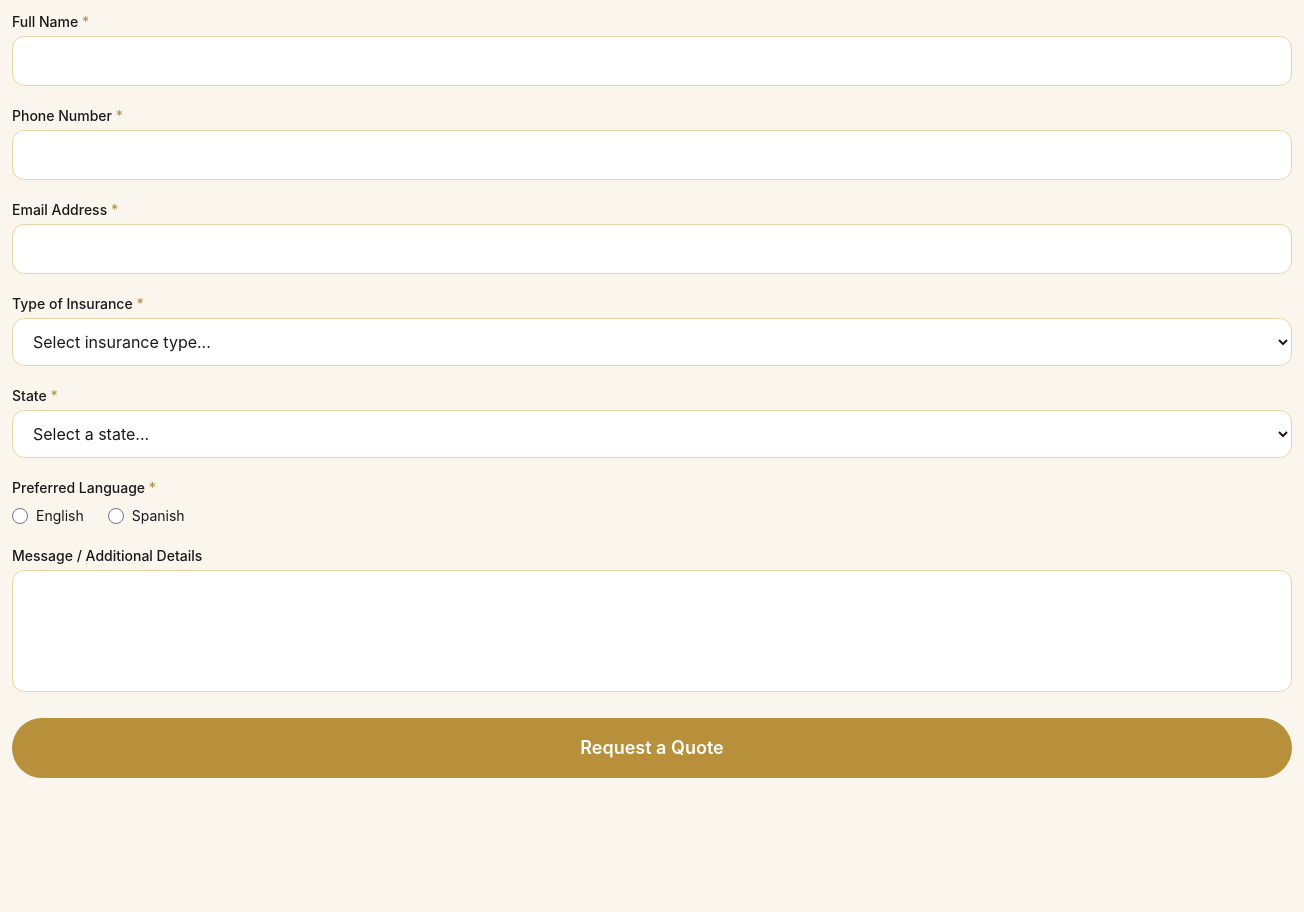
Test: QuoteForm › shows validation errors on empty submit
Click the button "Request a Quote" at (652, 748), box [12,718,1292,778]
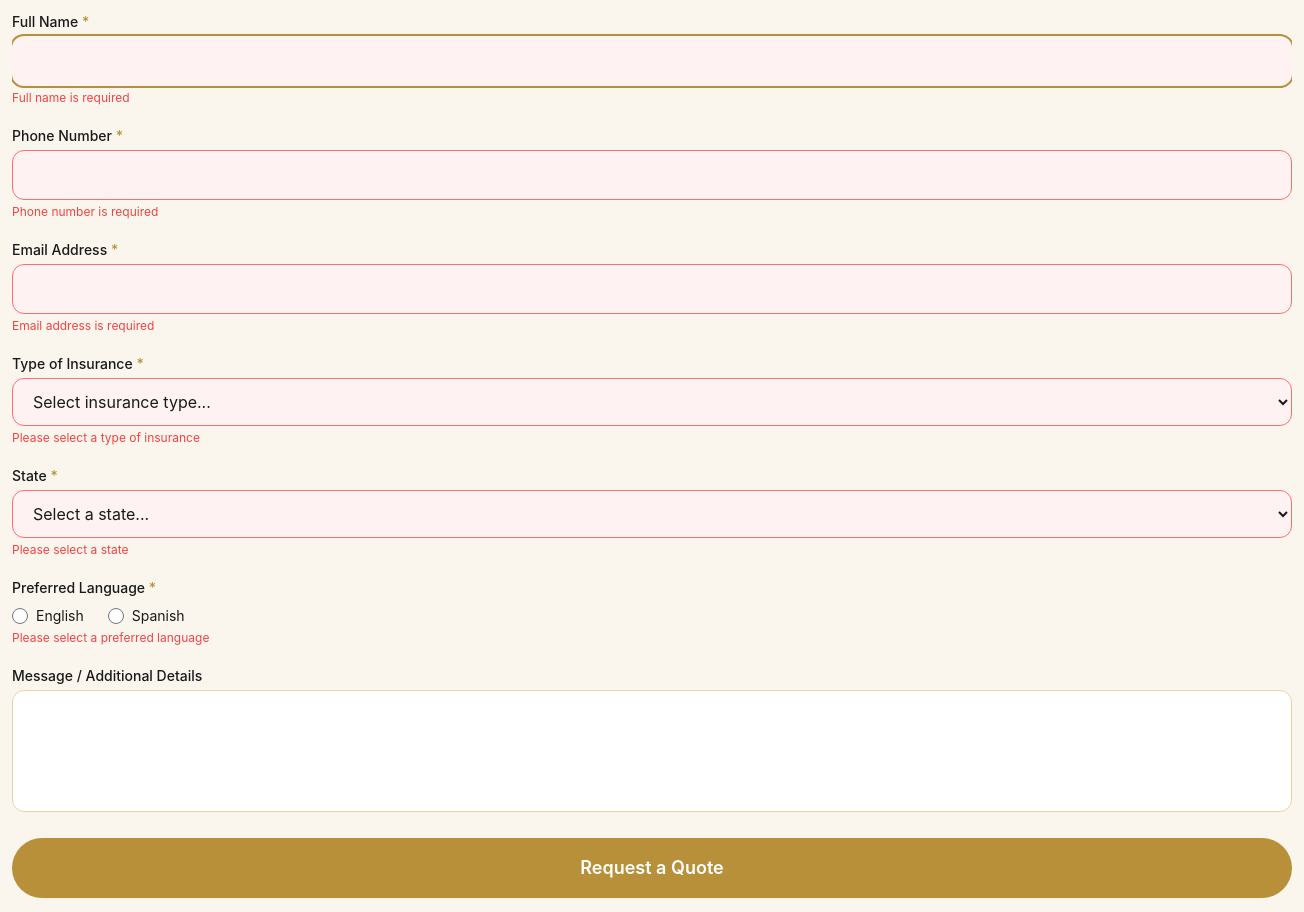
expect the text "Full name is required" is shown: met, box [12,90,130,105]
expect the text "Phone number is required" is shown: met, box [12,204,158,219]
expect the text "Email address is required" is shown: met, box [12,318,154,333]
